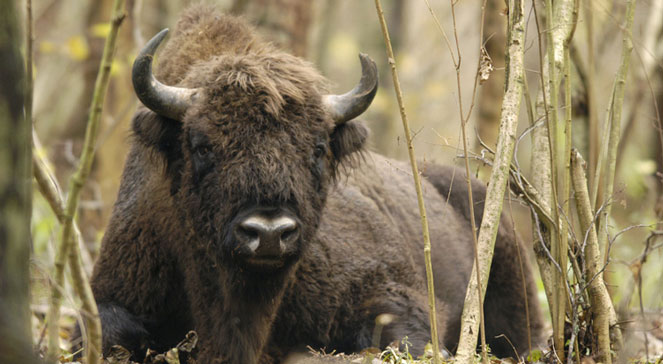zubr: (46, 13, 556, 364)
